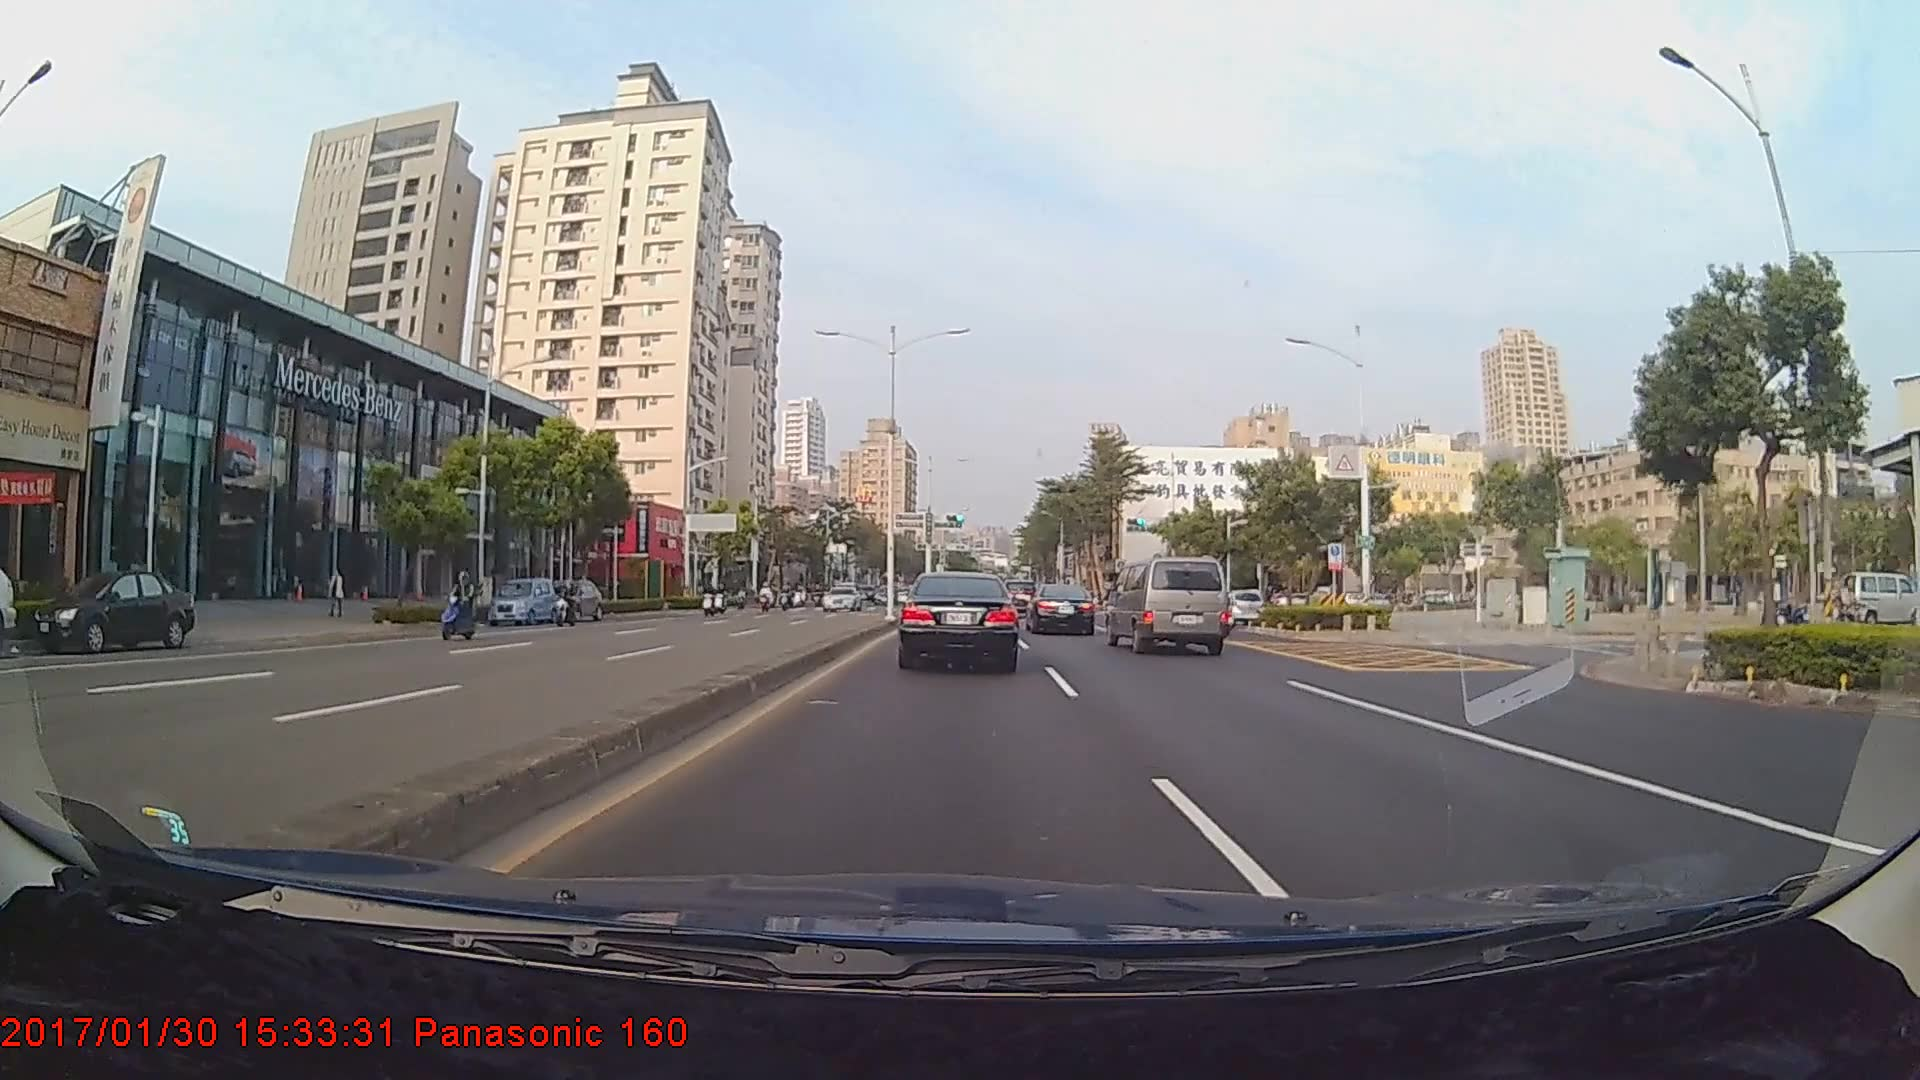pedestrian: (325, 566, 347, 624)
rider: (438, 564, 484, 647), (552, 581, 587, 631)
vehicle: (31, 567, 193, 652), (900, 568, 1018, 672), (1107, 555, 1227, 655), (1026, 582, 1097, 637), (488, 577, 557, 625), (541, 577, 598, 624), (1210, 588, 1265, 622), (818, 583, 858, 611)
